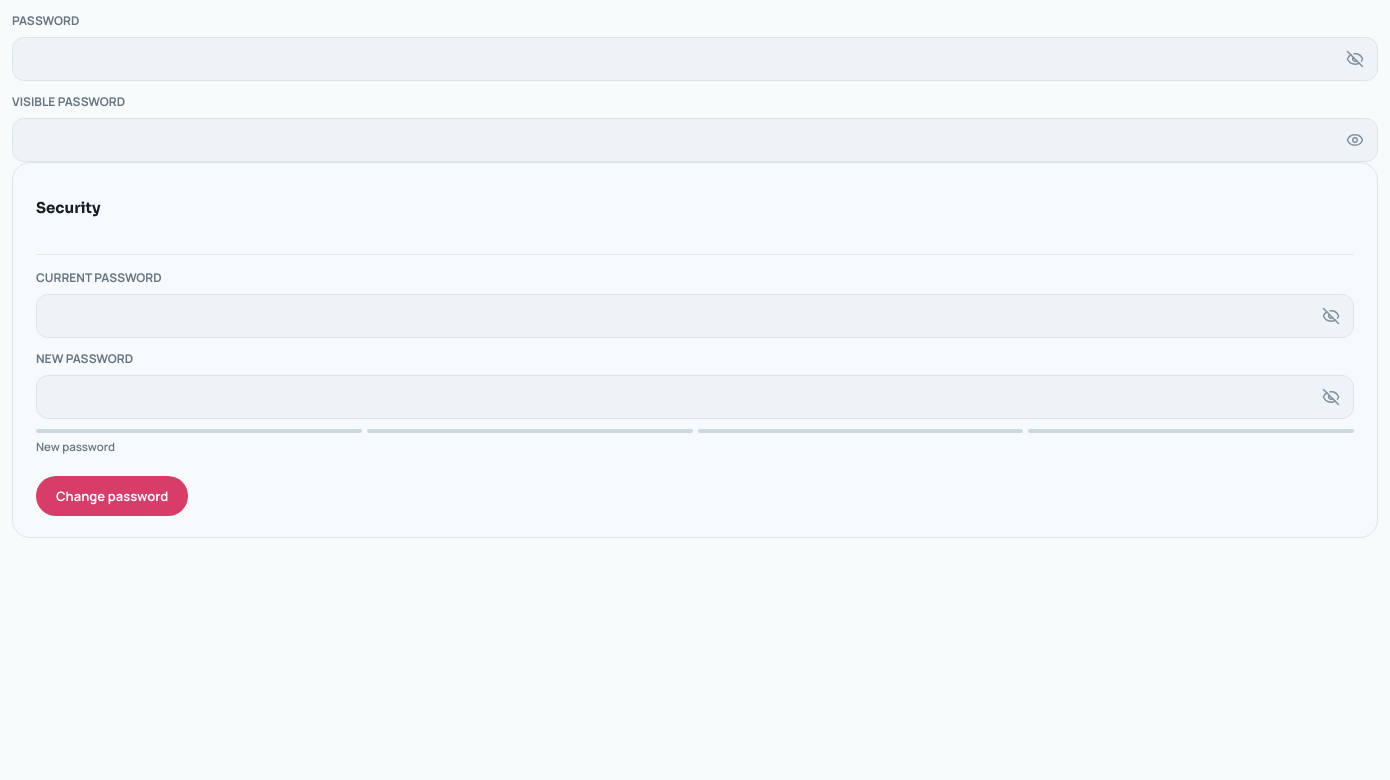
Scenario: profile components › covers password rules, field visibility, and security validation
The image size is (1390, 780).
Expected: the 1st button named "Show password" is shown, [1335,39,1375,79]
What coordinates should you click on to do the following:
click the button "Change password"
I would click on:
 (112, 496)
Its box is [36,476,188,516].
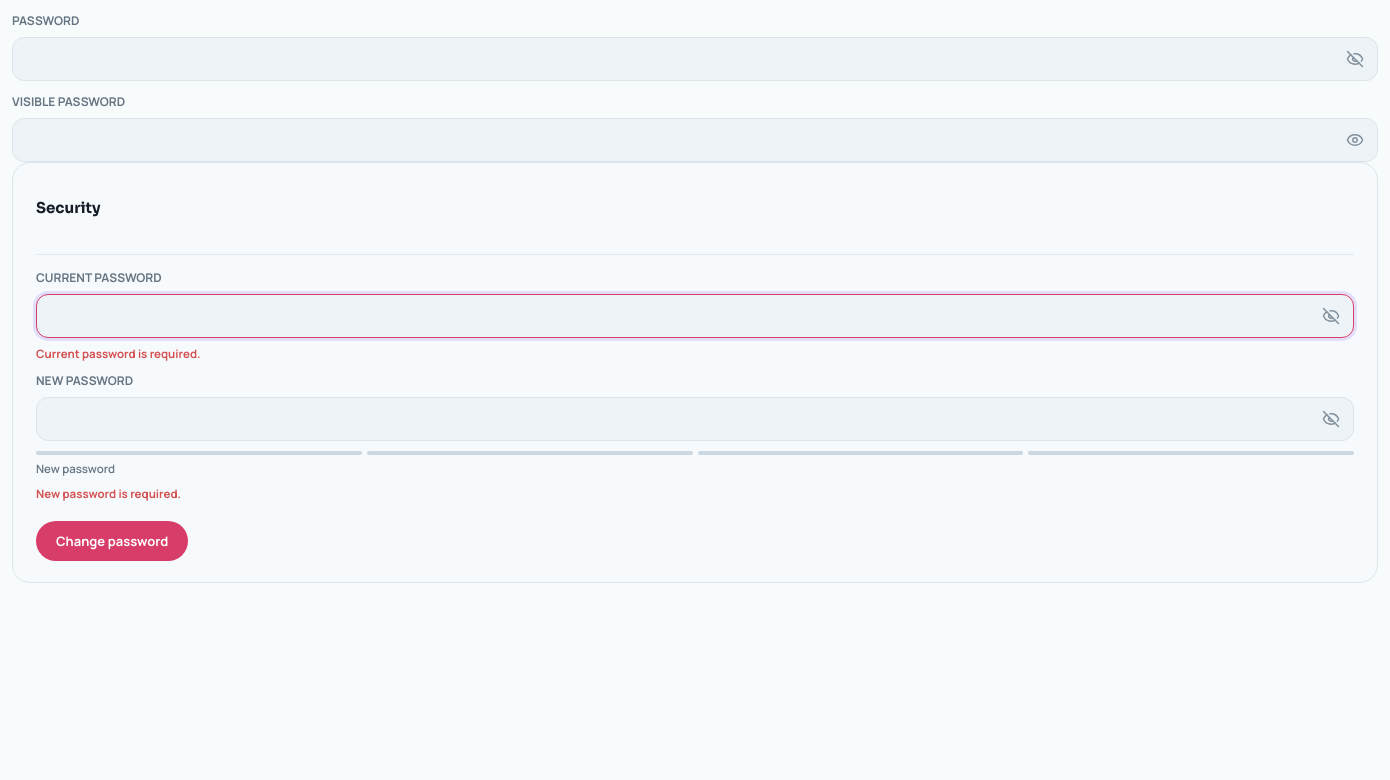
Expected: the text "Current password is required." is shown, [36,346,200,361]
